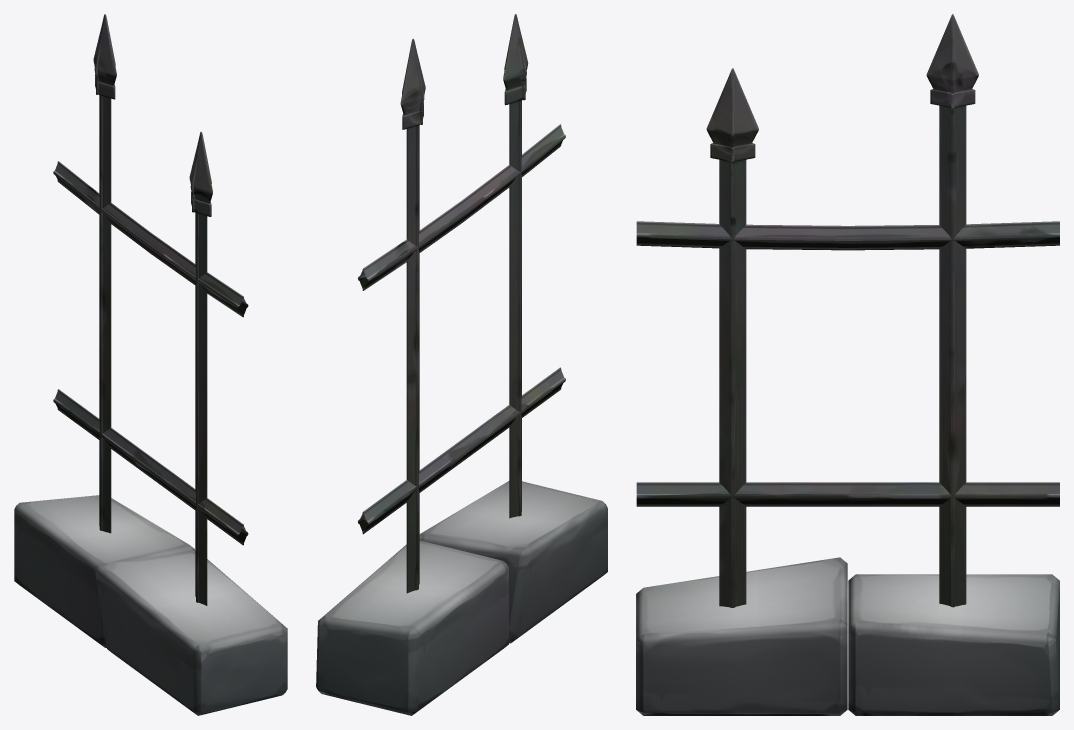
Rendered from Fence1.fbx.
The picture shows the model from 3 angles, left to right: view 1: azimuth 30°, elevation 25°; view 2: azimuth 150°, elevation 25°; view 3: azimuth 270°, elevation 25°; orthographic projection. The views are drawn at different scales.
Parts seen in each view (by area): view 1: Fence_1:Mesh; view 2: Fence_1:Mesh; view 3: Fence_1:Mesh.
Boxes of the visible parts, x1,y1,x2,y2 form: Fence_1:Mesh: (14, 14, 287, 715); Fence_1:Mesh: (316, 14, 607, 715); Fence_1:Mesh: (636, 14, 1059, 715).
Size of the model in its own units: 0.333 by 1.77 by 1.
